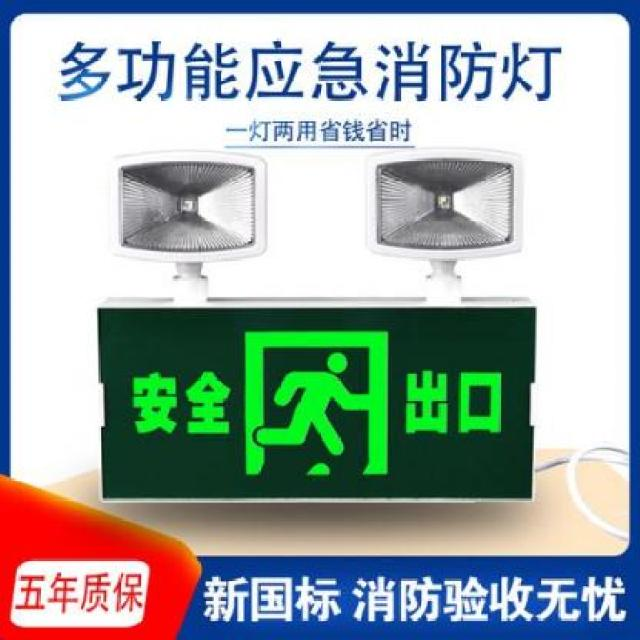exit_sign: (97, 306, 529, 497)
